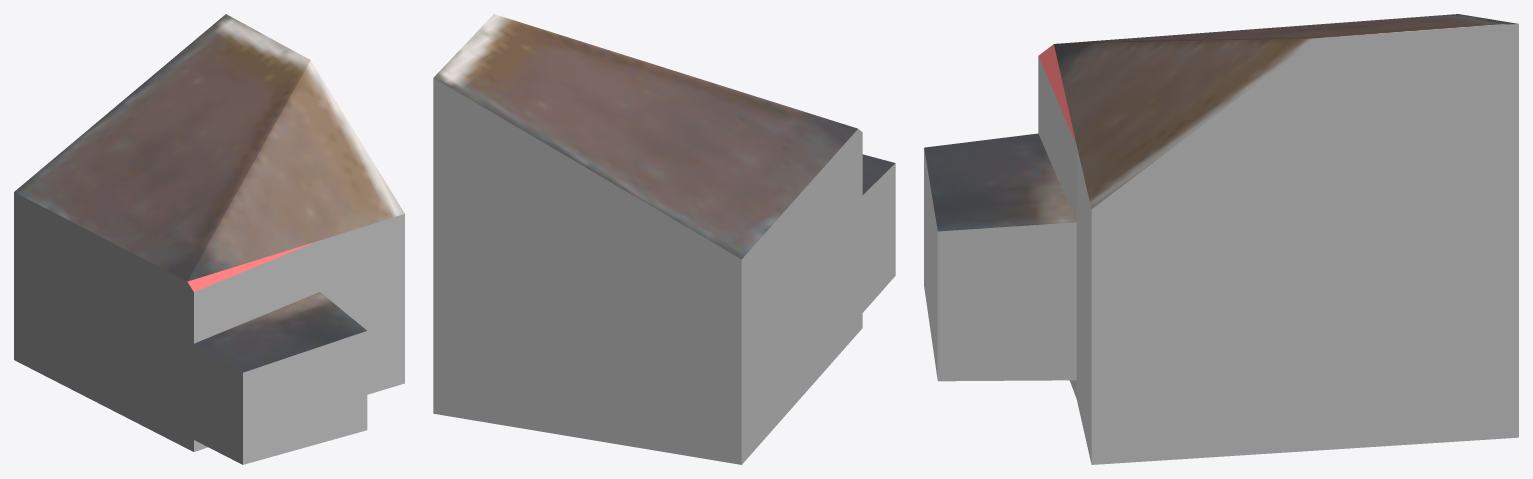
File: DEBW_0010007Tx8r.gltf
3 renders of one model, left to right at view 1: azimuth 30°, elevation 25°; view 2: azimuth 150°, elevation 25°; view 3: azimuth 270°, elevation 25°, orthographic. The views are drawn at different scales.
Parts seen in each view (by area): view 1: Z_UP; view 2: Z_UP; view 3: Z_UP.
Boxes of the visible parts, x1,y1,x2,y2 form: Z_UP: (14, 14, 404, 464); Z_UP: (433, 14, 895, 464); Z_UP: (924, 14, 1518, 464).
Bounding box in the file's own units: 10.29 × 10.03 × 13.07.
3 materials, 1 textured.
